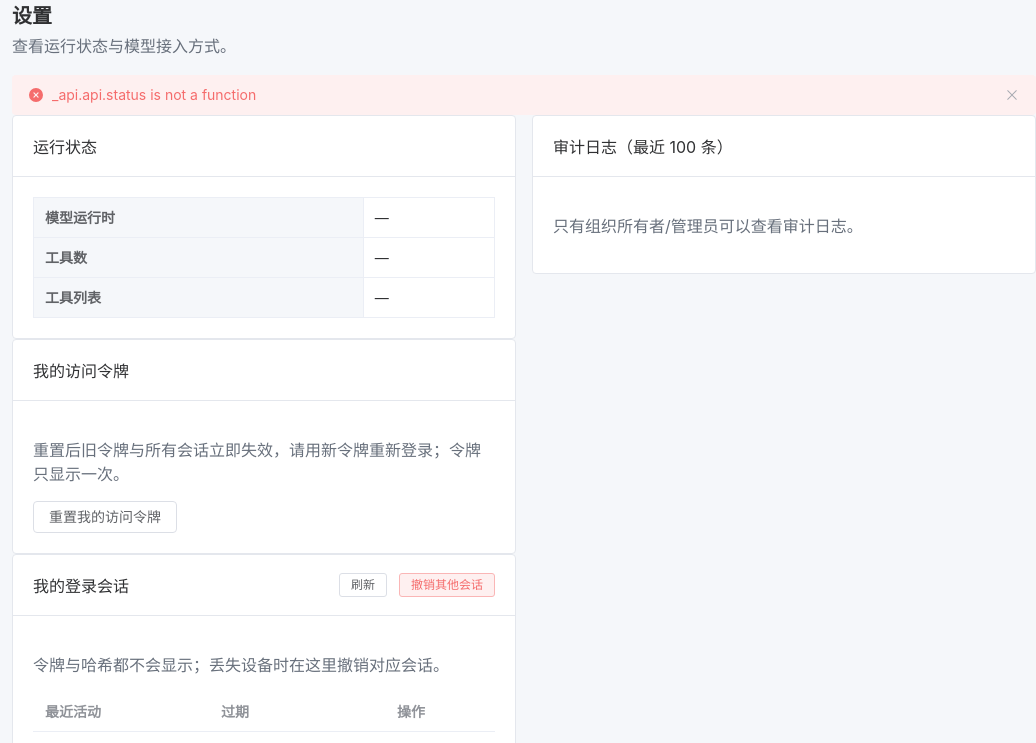
it: SettingsView › rotates the member token and surfaces the new value once
Click the button "重置我的访问令牌". click: (105, 517)
box: [33,501,177,533]
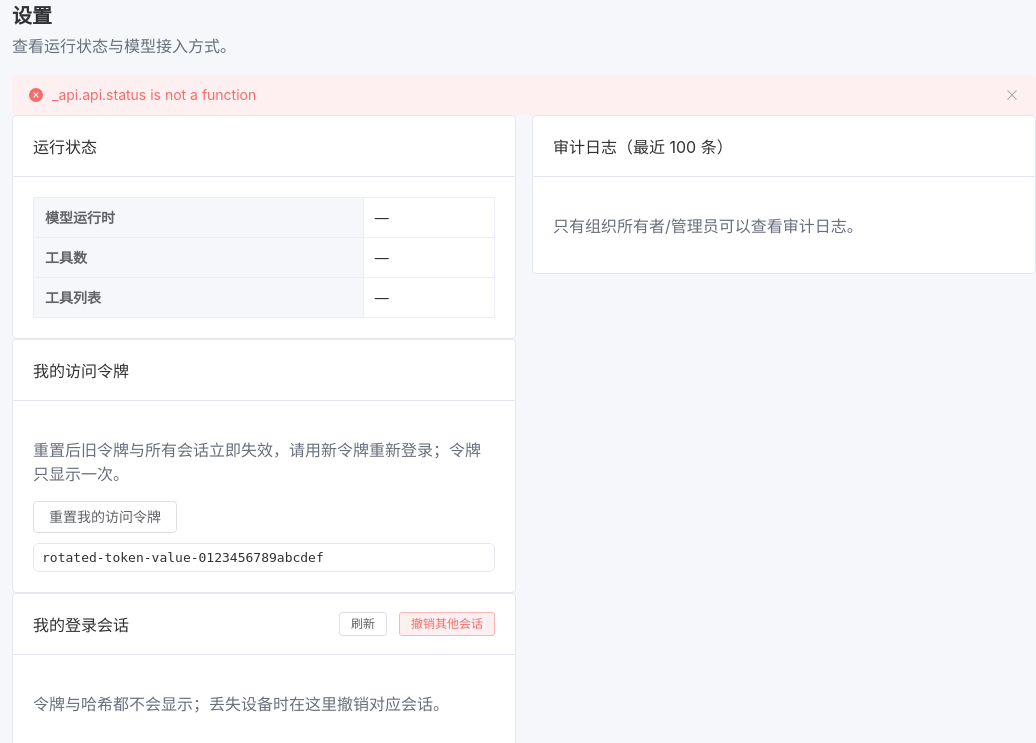
Result: the text "rotated-token-value-0123456789abcdef" is shown at [33,543,495,572]
